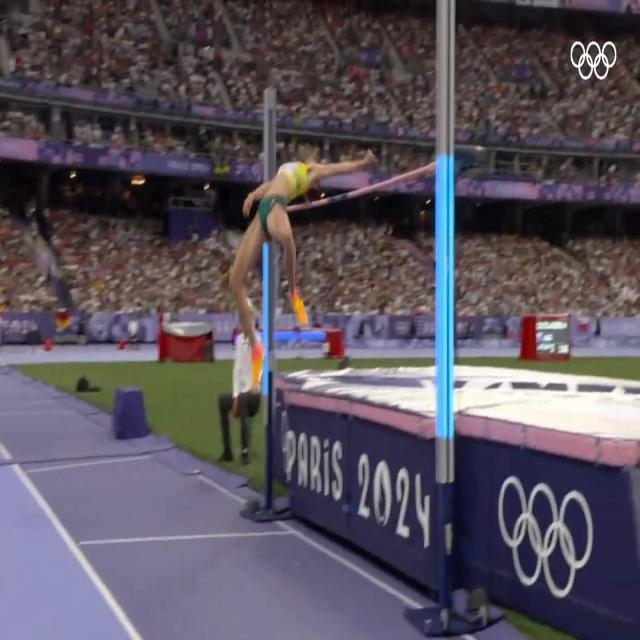jump: (230, 148, 358, 394)
